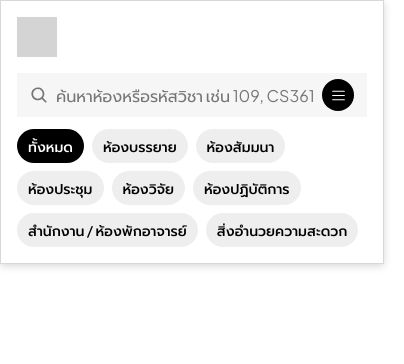
RoomSearchPanel Component › renders filtered results when user selects a category
Click the button "ห้องปฏิบัติการ" at [247, 188], box [193,171,301,205]
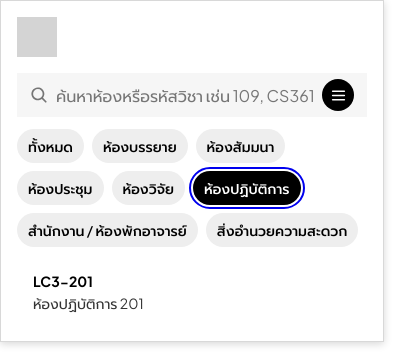
Expected: the list is shown, [17,259,367,325]
Expected: the button "LC3-201" is shown, [33,271,93,291]
